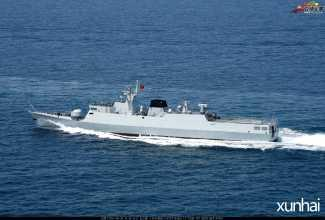warship: (21, 80, 282, 146)
